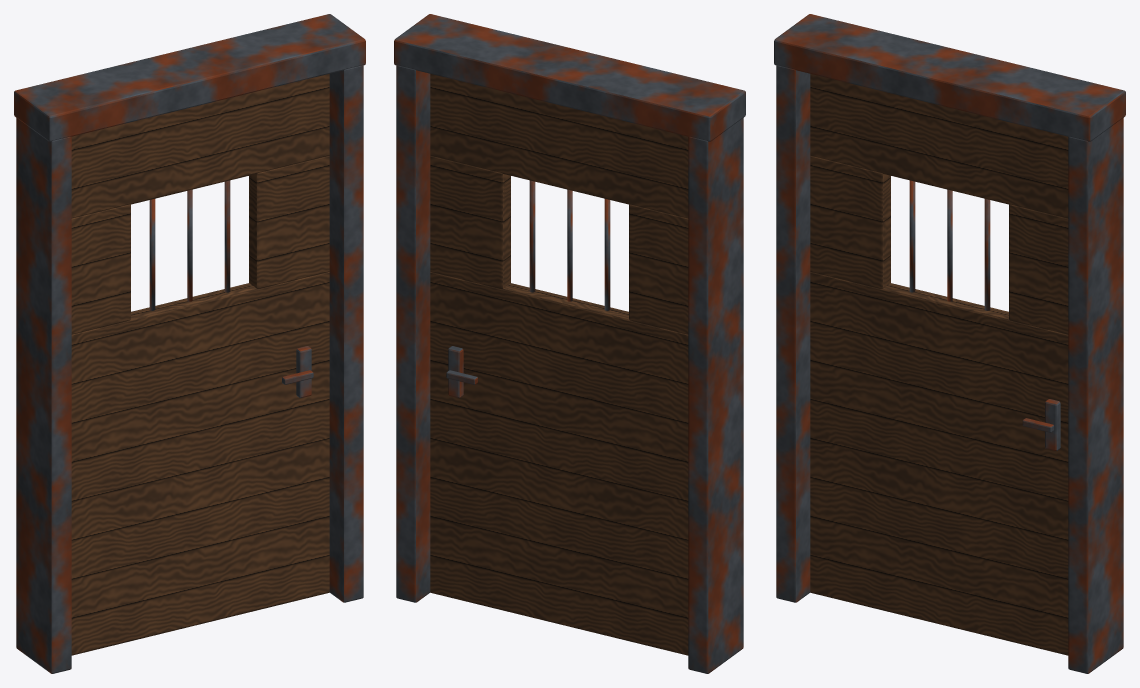
File: door_heavy.glb
The picture shows the model from 3 angles, left to right: view 1: azimuth 30°, elevation 25°; view 2: azimuth 150°, elevation 25°; view 3: azimuth 330°, elevation 25°; orthographic projection.
Visible parts, largest first — view 1: LeafLow, JambL, LeafTop, Lintel, JambR, LeafStileR, LeafStileL, WindowBar_2, WindowBar_0, WindowBar_1, HandlePlate; view 2: LeafLow, JambL, LeafTop, Lintel, JambR, LeafStileR, LeafStileL, WindowBar_2, WindowBar_0, WindowBar_1, HandlePlate; view 3: LeafLow, JambR, LeafTop, Lintel, JambL, LeafStileL, LeafStileR, WindowBar_0, WindowBar_2, HandlePlate, WindowBar_1.
Part boxes in pixels (<box>): LeafLow: <box>71,272,329,655</box>; JambL: <box>16,118,71,673</box>; LeafTop: <box>71,74,329,218</box>; Lintel: <box>14,14,365,141</box>; JambR: <box>329,65,363,602</box>; LeafStileR: <box>249,155,329,288</box>; LeafStileL: <box>71,204,130,334</box>; WindowBar_2: <box>224,180,230,292</box>; WindowBar_0: <box>149,199,155,310</box>; WindowBar_1: <box>187,189,192,301</box>; HandlePlate: <box>296,346,311,397</box>; LeafLow: <box>430,272,688,655</box>; JambL: <box>688,118,743,673</box>; LeafTop: <box>430,74,688,218</box>; Lintel: <box>394,14,745,141</box>; JambR: <box>396,65,430,602</box>; LeafStileR: <box>430,155,510,288</box>; LeafStileL: <box>629,204,688,334</box>; WindowBar_2: <box>529,180,535,292</box>; WindowBar_0: <box>604,199,610,310</box>; WindowBar_1: <box>567,189,572,301</box>; HandlePlate: <box>448,346,463,397</box>; LeafLow: <box>810,272,1068,655</box>; JambR: <box>1068,118,1123,673</box>; LeafTop: <box>810,74,1068,218</box>; Lintel: <box>774,14,1125,141</box>; JambL: <box>776,65,810,602</box>; LeafStileL: <box>810,155,890,288</box>; LeafStileR: <box>1009,204,1068,334</box>; WindowBar_0: <box>909,180,915,292</box>; WindowBar_2: <box>984,199,990,310</box>; HandlePlate: <box>1045,399,1060,450</box>; WindowBar_1: <box>947,189,952,301</box>.
Bounding box in the file's own units: 1.52 × 2.56 × 0.3.
Materials: 2 (2 with a texture image).
